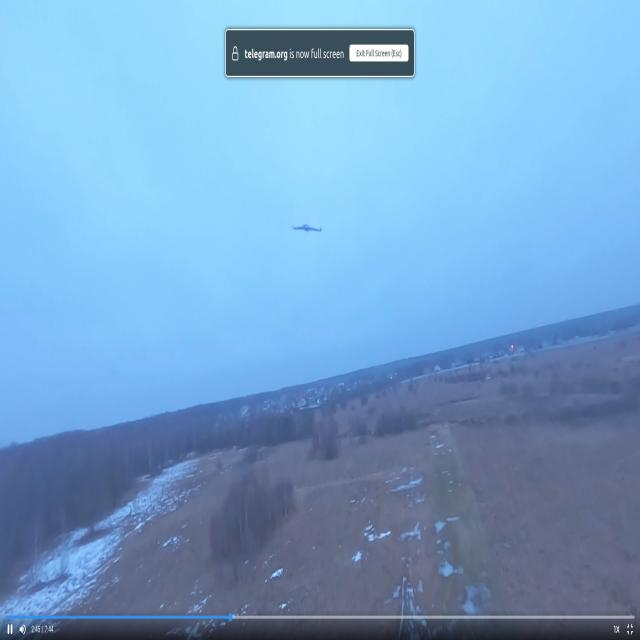planedrone: (288, 218, 322, 236)
